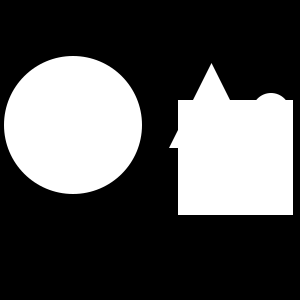circle: (178, 100, 293, 215)
rectangle: (4, 56, 142, 194), (252, 93, 290, 131)
triangle: (169, 63, 254, 148), (22, 156, 35, 169)
